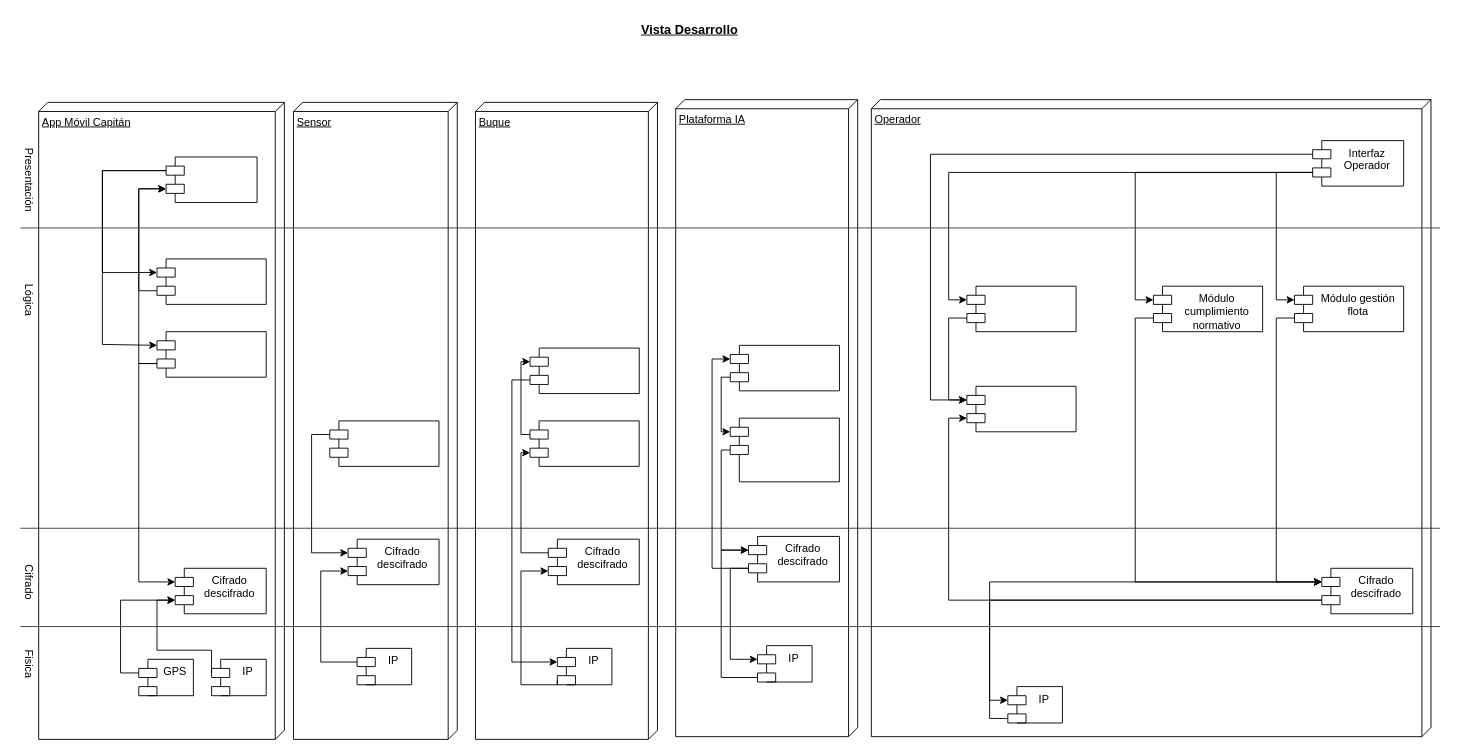
Some shapes in this 1473 by 755 pixel diagram are drawn without their labels. The centre of each missing label's shape, as x and y in pixels:
"Interfaz Usuario" belongs at (211,179).
"Módulo Consulta Predicción" belongs at (211,281).
"Módulo Controlador de datos" belongs at (384,443).
"Módulo Gestionar Ruta" belongs at (1021,408).
"Módulo Gestor Predicciones recomendación" belongs at (784,449).
"Módulo Gestor publicaciones" belongs at (584,443).
"Módulo Gestor Suvbscripciones" belongs at (584,370).
"Módulo Recibir contrato" belongs at (1021,308).
"Módulo Recibir Subscripción" belongs at (784,367).
"Módulo Recomendación Usuario" belongs at (211,354).
